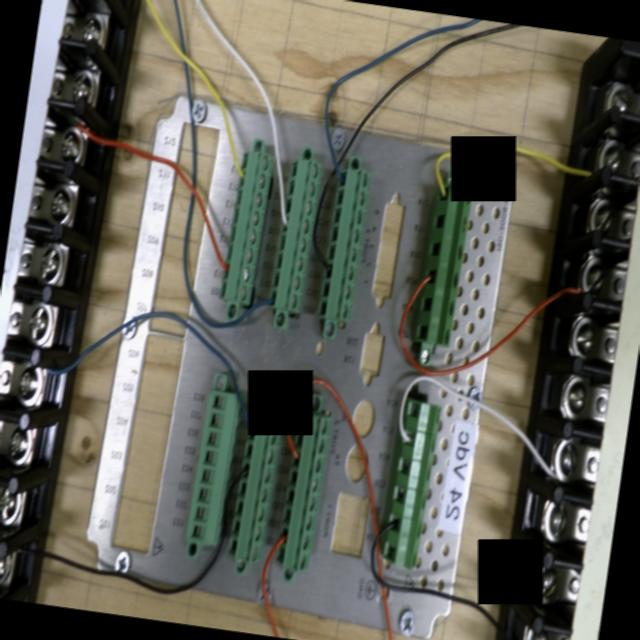Terminal_1: (381, 399, 442, 570), (415, 180, 473, 347)
Terminal_2: (275, 411, 332, 575), (228, 404, 285, 566), (219, 147, 275, 305), (268, 156, 324, 313), (318, 164, 373, 323)
